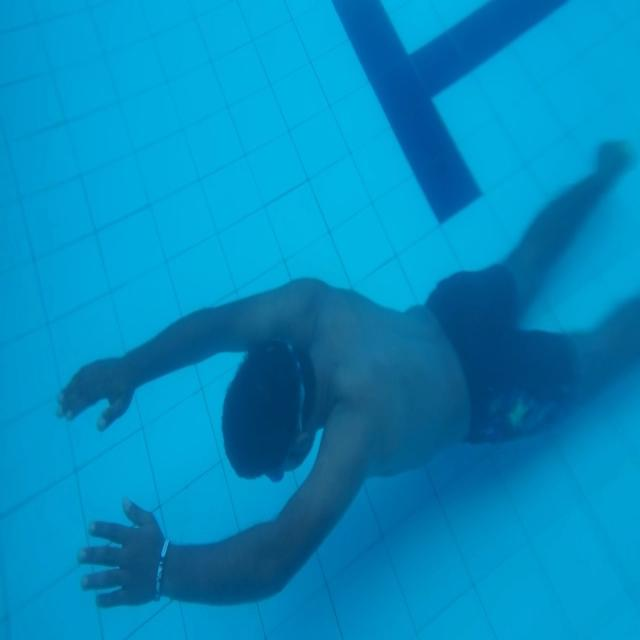drowning: (30, 219, 619, 585)
